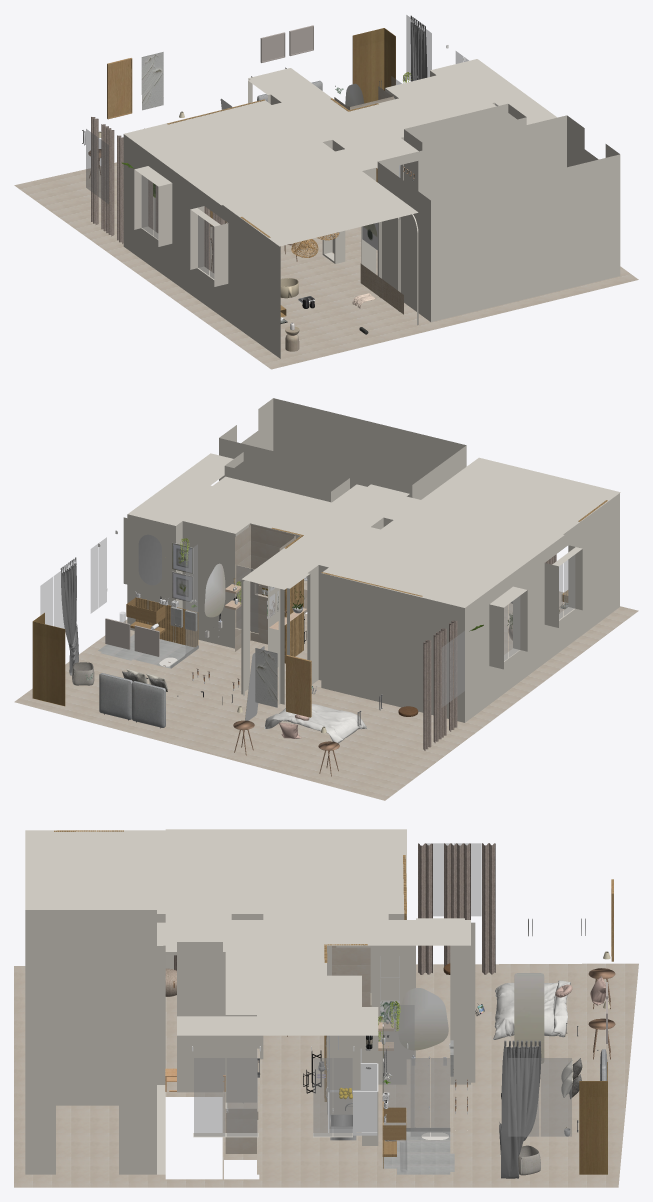
The model's file is burgos-floor-1-1.glb.
3 renders of one model, top to bottom at view 1: azimuth 30°, elevation 25°; view 2: azimuth 150°, elevation 25°; view 3: azimuth 270°, elevation 25°, orthographic. The views are drawn at different scales.
Parts seen in each view (by area): view 1: 3DGeom-3982, 3DGeom-3979, 3DGeom-48.059, 3DGeom-3988, 3DGeom-10547, 3DGeom-10.003, 3DGeom-6352, 3DGeom-6393, 3DGeom-435.002, 3DGeom-6128, 3DGeom-642.004, 3DGeom-3991; view 2: 3DGeom-3982, 3DGeom-3979, 3DGeom-3988, 3DGeom-48.059, 3DGeom-1293.002, 3DGeom-10547, 3DGeom-3991, 3DGeom-3994, 3DGeom-1673.002, 3DGeom-10.003, 3DGeom-435.002, 3DGeom-6352 (+6 smaller); view 3: 3DGeom-3982, 3DGeom-3979, 3DGeom-3988, 3DGeom-48.059, 3DGeom-4054, 3DGeom-435.002, 3DGeom-10547, 3DGeom-3994, 3DGeom-1673.002, 3DGeom-4000, 3DGeom-3997, 3DGeom-3991 (+4 smaller).
Part boxes in pixels (bbox=[...]): 3DGeom-3982: bbox=[123, 59, 620, 358]; 3DGeom-3979: bbox=[14, 86, 638, 369]; 3DGeom-48.059: bbox=[91, 117, 225, 272]; 3DGeom-3988: bbox=[86, 15, 498, 278]; 3DGeom-10547: bbox=[352, 28, 395, 103]; 3DGeom-10.003: bbox=[107, 58, 132, 119]; 3DGeom-6352: bbox=[260, 25, 313, 62]; 3DGeom-6393: bbox=[141, 52, 163, 110]; 3DGeom-435.002: bbox=[335, 15, 427, 86]; 3DGeom-6128: bbox=[360, 263, 403, 314]; 3DGeom-642.004: bbox=[291, 232, 339, 257]; 3DGeom-3991: bbox=[167, 98, 378, 317]; 3DGeom-3982: bbox=[123, 398, 620, 722]; 3DGeom-3979: bbox=[14, 524, 638, 800]; 3DGeom-3988: bbox=[40, 537, 575, 707]; 3DGeom-48.059: bbox=[423, 554, 556, 750]; 3DGeom-1293.002: bbox=[99, 673, 165, 727]; 3DGeom-10547: bbox=[32, 612, 65, 706]; 3DGeom-3991: bbox=[135, 500, 607, 663]; 3DGeom-3994: bbox=[98, 606, 198, 668]; 3DGeom-1673.002: bbox=[264, 703, 366, 743]; 3DGeom-10.003: bbox=[286, 655, 311, 717]; 3DGeom-435.002: bbox=[60, 557, 234, 696]; 3DGeom-6352: bbox=[105, 618, 159, 656]; 3DGeom-3982: bbox=[25, 829, 475, 1174]; 3DGeom-3979: bbox=[14, 946, 638, 1187]; 3DGeom-3988: bbox=[194, 843, 571, 1136]; 3DGeom-48.059: bbox=[174, 843, 495, 974]; 3DGeom-4054: bbox=[398, 973, 544, 1063]; 3DGeom-435.002: bbox=[365, 1040, 598, 1178]; 3DGeom-10547: bbox=[579, 1062, 607, 1174]; 3DGeom-3994: bbox=[382, 1040, 454, 1174]; 3DGeom-1673.002: bbox=[493, 980, 570, 1039]; 3DGeom-4000: bbox=[257, 1048, 378, 1135]; 3DGeom-3997: bbox=[382, 1107, 406, 1156]; 3DGeom-3991: bbox=[54, 830, 406, 1168].
Bounding box in the file's own units: 9.27 × 3 × 10.92.
Materials: 134 (91 with a texture image).
